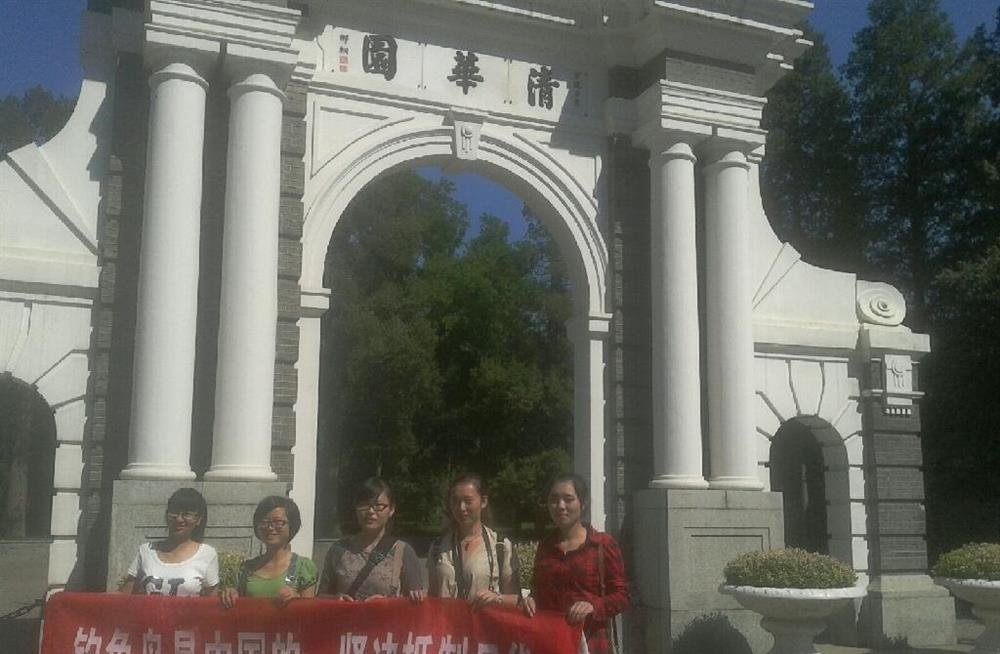Tsinghua_old_gate: (2, 5, 944, 645)
